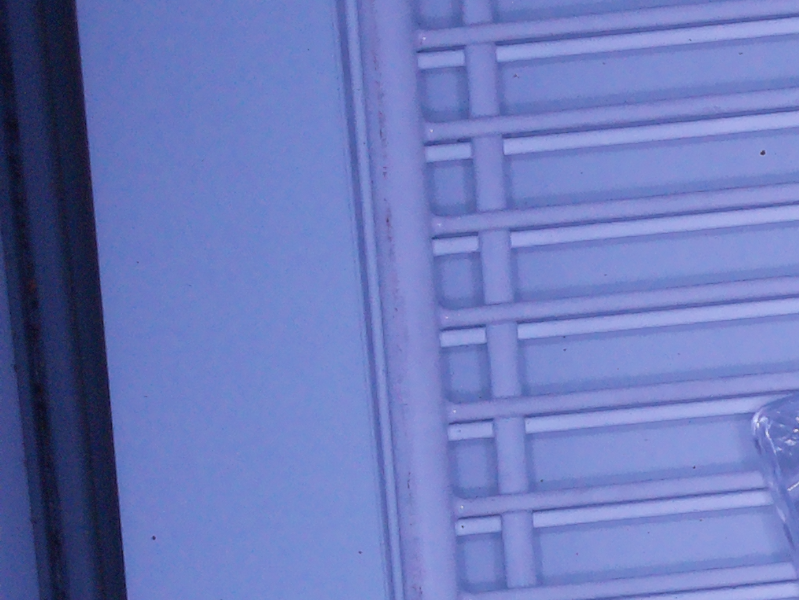plate: (750, 390, 799, 572)
